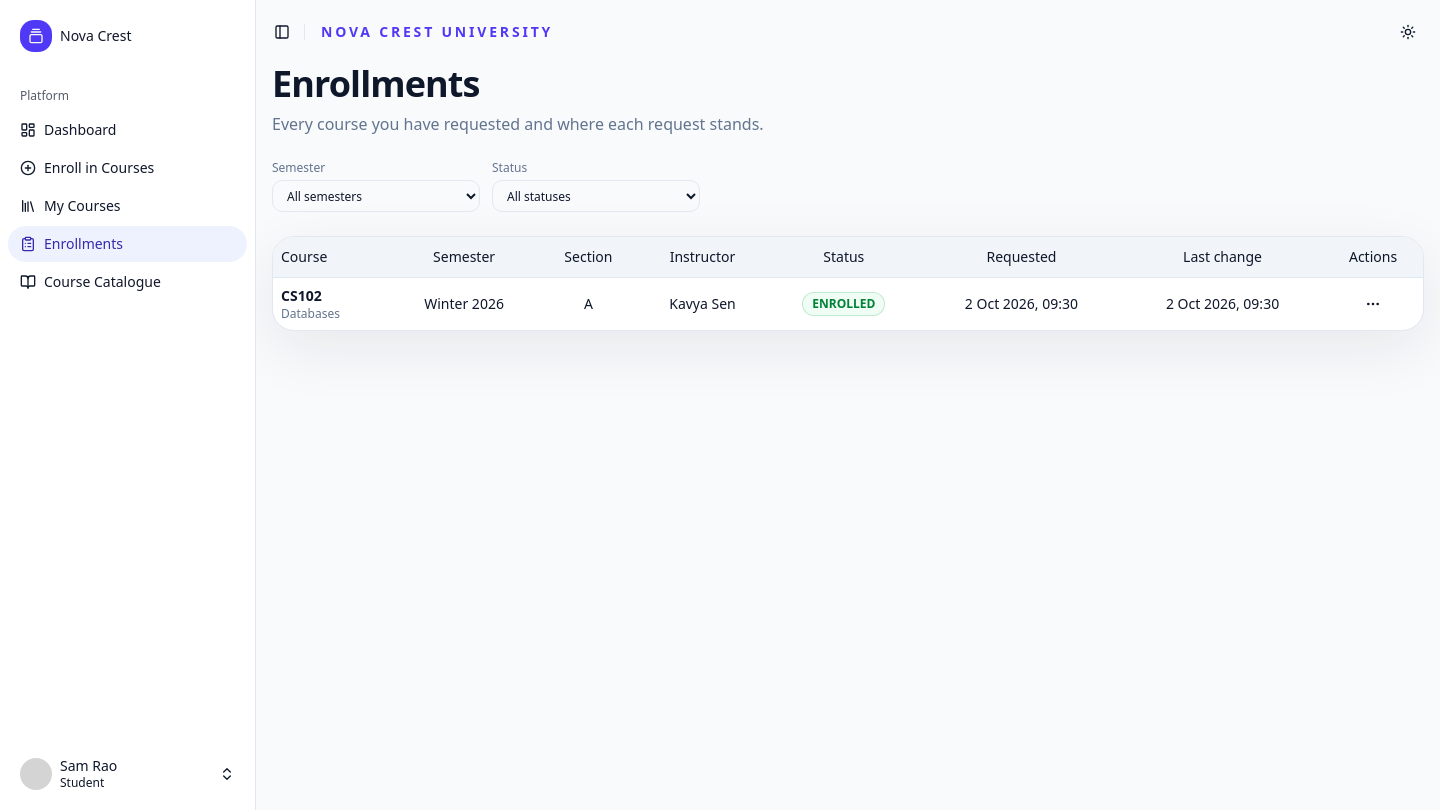
Test case: MyEnrollmentsView › drops a course after confirmation
Click the button named "Actions for CS102" in the row of "CS102" at (1373, 304), box [1357,288,1389,320]
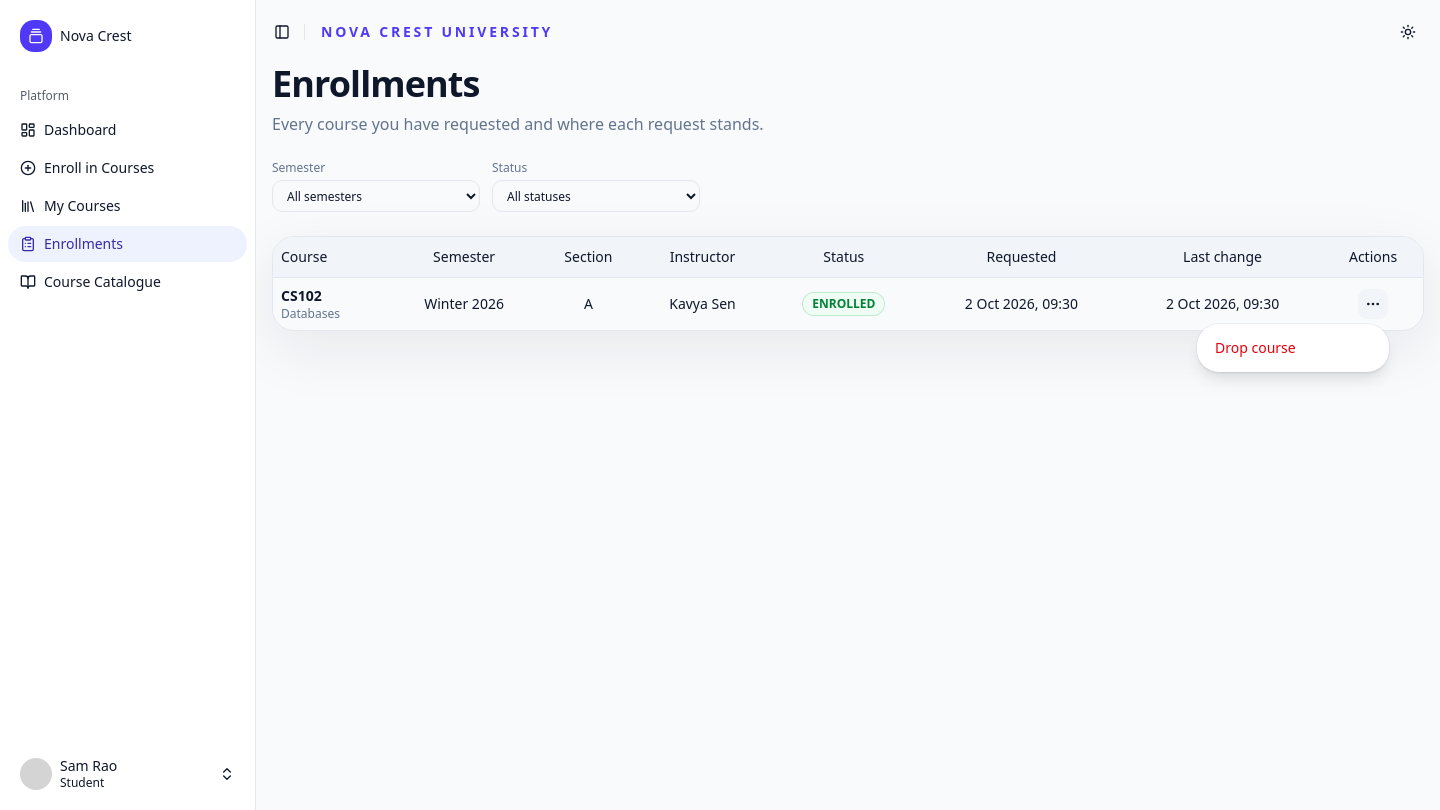
Click the menu item "Drop course" at (1255, 348), box [1215,338,1296,357]
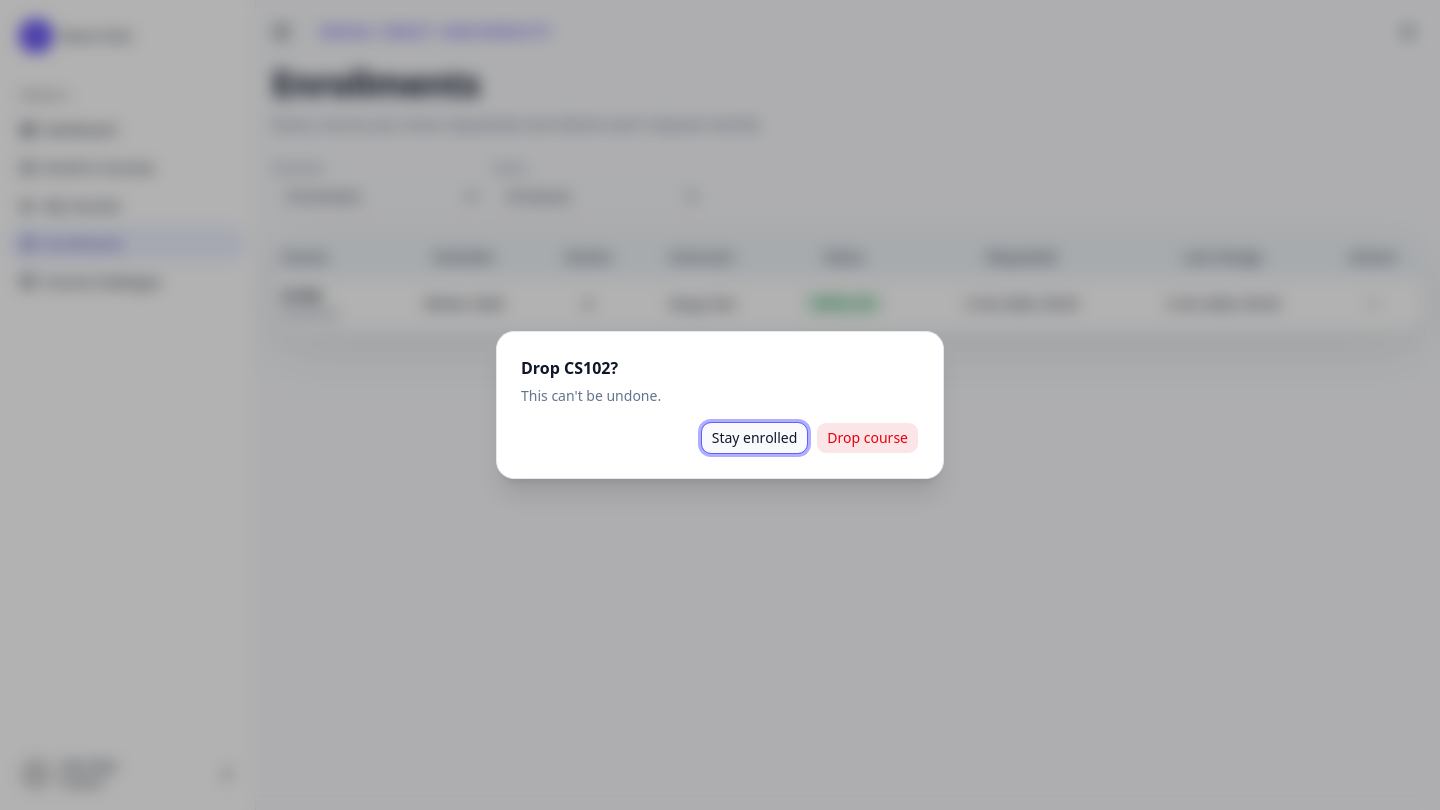
Click the button "Drop course" at (868, 438), box [816,422,919,454]
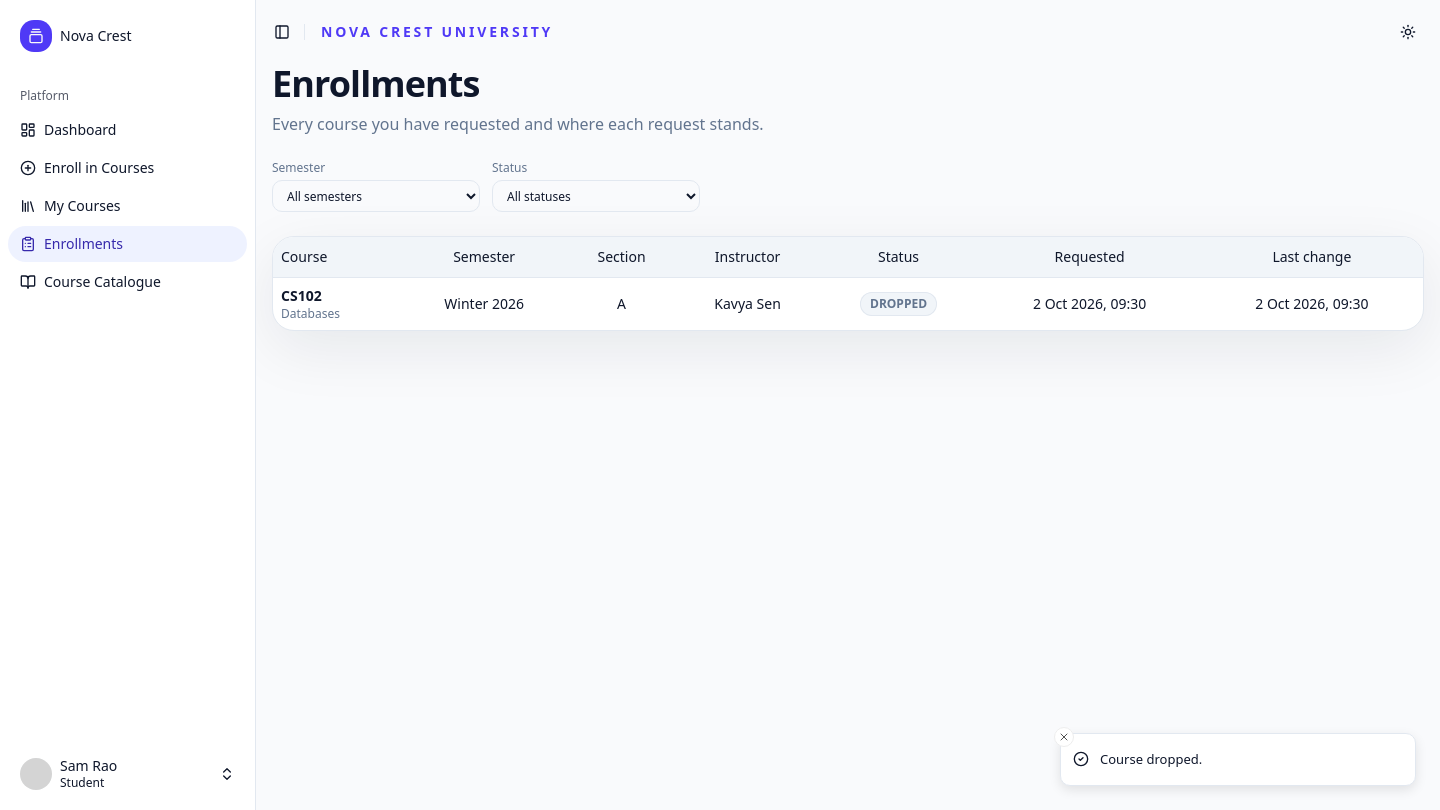
Now the text "Course dropped." is shown, box [1100,750,1202,769]
Now the text "DROPPED" is shown, box [860,292,937,316]
